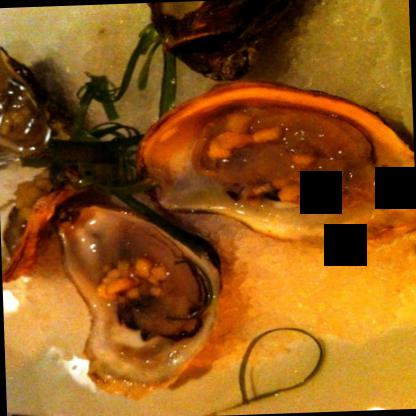oyster: (139, 78, 415, 252), (54, 203, 230, 399)
